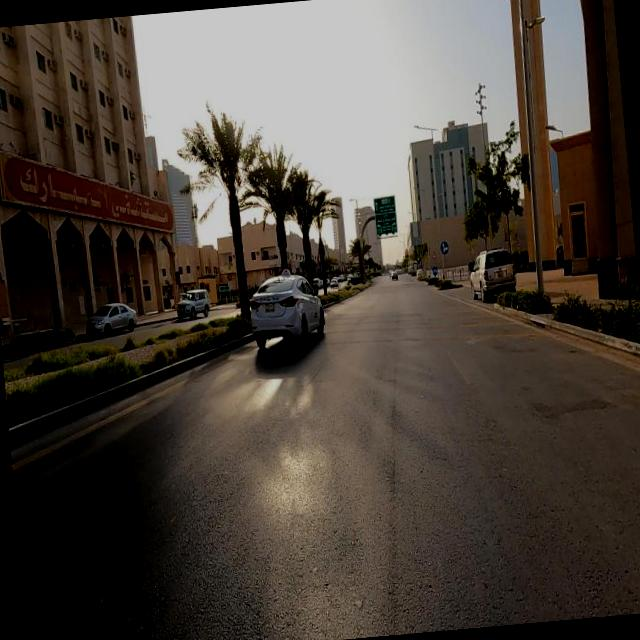debris: (0, 79, 274, 311)
